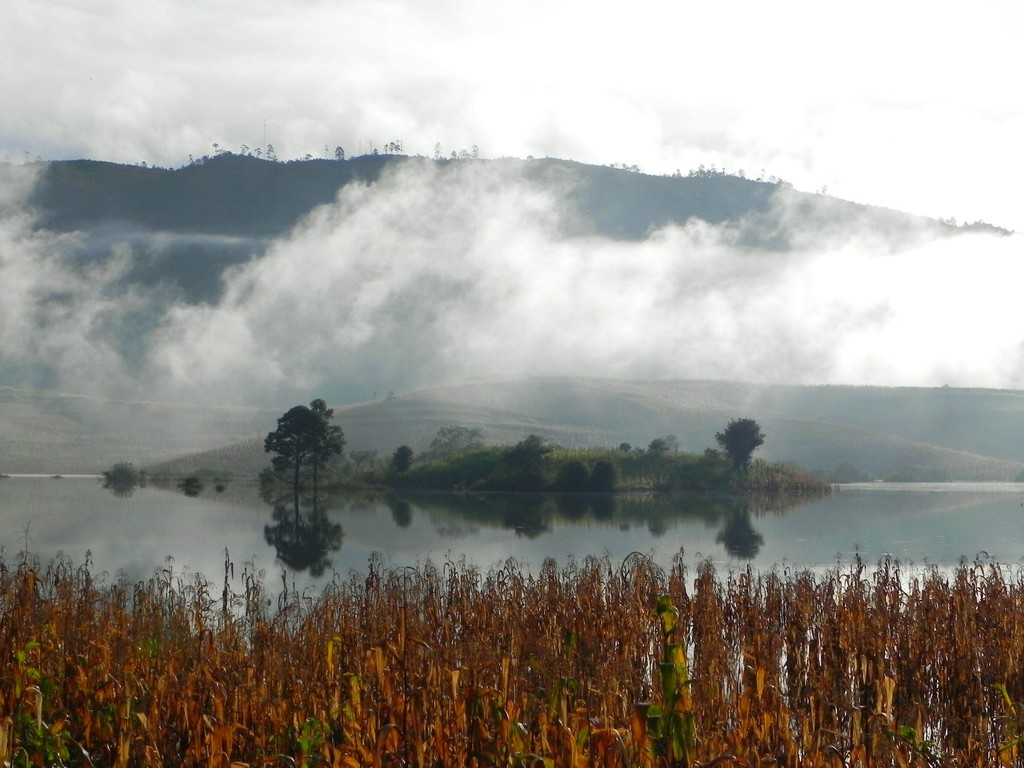Tree: (248, 395, 346, 498), (707, 411, 768, 473), (427, 421, 484, 469), (101, 455, 145, 484), (501, 431, 544, 455), (392, 444, 415, 476), (649, 436, 669, 455), (615, 439, 632, 454)
